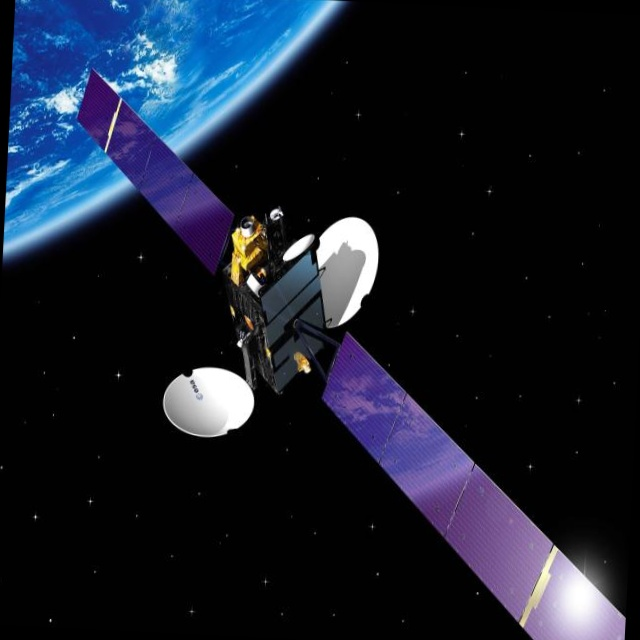satellite: (44, 59, 640, 640)
